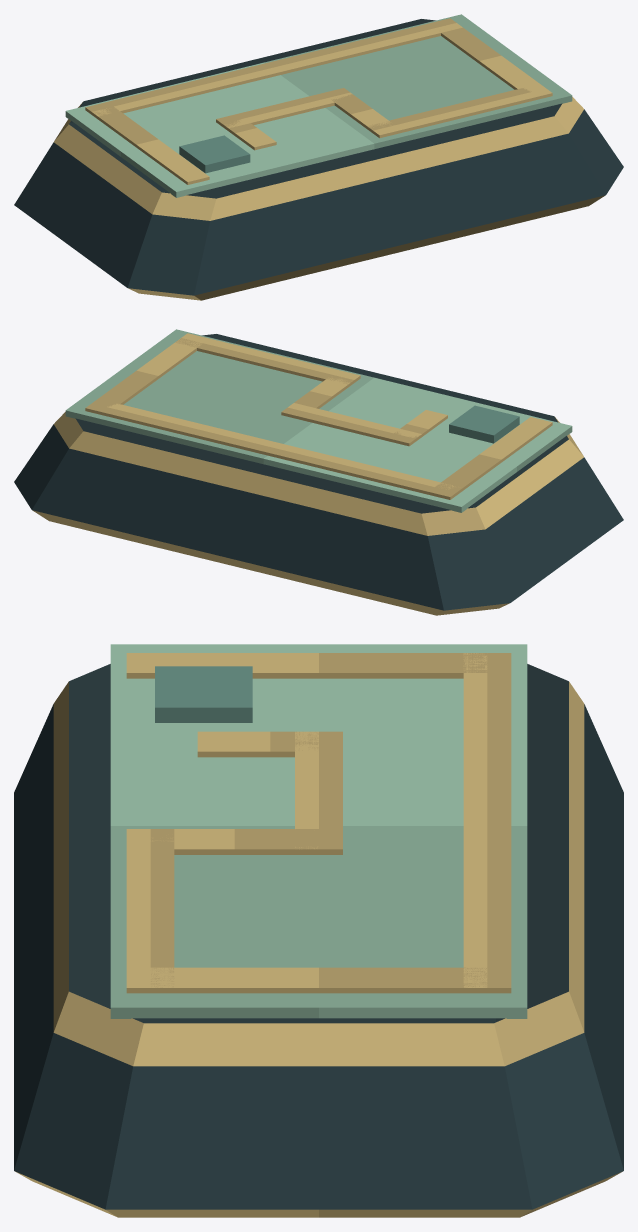
File: huashen_xuanji_ingot.obj
3 renders of one model, top to bottom at view 1: azimuth 30°, elevation 25°; view 2: azimuth 150°, elevation 25°; view 3: azimuth 270°, elevation 25°, orthographic. The views are drawn at different scales.
Visible parts, largest first — view 1: ingot_body, ingot_seal_ground, ingot_court_seal_1, ingot_court_seal_3, ingot_court_seal_0, ingot_court_seal_2, ingot_court_seal_5, ingot_court_seal_core, ingot_court_seal_4, ingot_court_seal_6; view 2: ingot_body, ingot_seal_ground, ingot_court_seal_1, ingot_court_seal_0, ingot_court_seal_3, ingot_court_seal_2, ingot_court_seal_5, ingot_court_seal_core, ingot_court_seal_4, ingot_court_seal_6; view 3: ingot_body, ingot_seal_ground, ingot_court_seal_1, ingot_court_seal_2, ingot_court_seal_0, ingot_court_seal_3, ingot_court_seal_core, ingot_court_seal_5, ingot_court_seal_4, ingot_court_seal_6.
Part boxes in pixels (x1=…): ingot_body: x1=14, y1=19, x2=623, y2=300; ingot_seal_ground: x1=65, y1=14, x2=572, y2=197; ingot_court_seal_1: x1=85, y1=18, x2=462, y2=119; ingot_court_seal_3: x1=366, y1=88, x2=550, y2=138; ingot_court_seal_0: x1=85, y1=102, x2=209, y2=184; ingot_court_seal_2: x1=430, y1=19, x2=552, y2=100; ingot_court_seal_5: x1=216, y1=88, x2=352, y2=130; ingot_court_seal_core: x1=179, y1=135, x2=250, y2=173; ingot_court_seal_4: x1=331, y1=88, x2=401, y2=137; ingot_court_seal_6: x1=216, y1=115, x2=276, y2=150; ingot_body: x1=14, y1=334, x2=623, y2=615; ingot_seal_ground: x1=65, y1=329, x2=572, y2=512; ingot_court_seal_1: x1=85, y1=403, x2=462, y2=499; ingot_court_seal_0: x1=428, y1=417, x2=552, y2=499; ingot_court_seal_3: x1=175, y1=333, x2=360, y2=384; ingot_court_seal_2: x1=85, y1=333, x2=209, y2=416; ingot_court_seal_5: x1=283, y1=403, x2=421, y2=446; ingot_court_seal_core: x1=449, y1=405, x2=519, y2=443; ingot_court_seal_4: x1=281, y1=371, x2=360, y2=420; ingot_court_seal_6: x1=388, y1=410, x2=447, y2=445; ingot_body: x1=14, y1=664, x2=623, y2=1217; ingot_seal_ground: x1=110, y1=644, x2=527, y2=1018; ingot_court_seal_1: x1=463, y1=653, x2=511, y2=993; ingot_court_seal_2: x1=126, y1=967, x2=511, y2=993; ingot_court_seal_0: x1=126, y1=653, x2=511, y2=678; ingot_court_seal_3: x1=126, y1=829, x2=174, y2=993; ingot_court_seal_core: x1=155, y1=666, x2=252, y2=722; ingot_court_seal_5: x1=295, y1=731, x2=342, y2=854; ingot_court_seal_4: x1=126, y1=829, x2=342, y2=854; ingot_court_seal_6: x1=197, y1=731, x2=342, y2=757.
Size of the model in its own units: 0.38 by 0.075 by 0.215.
